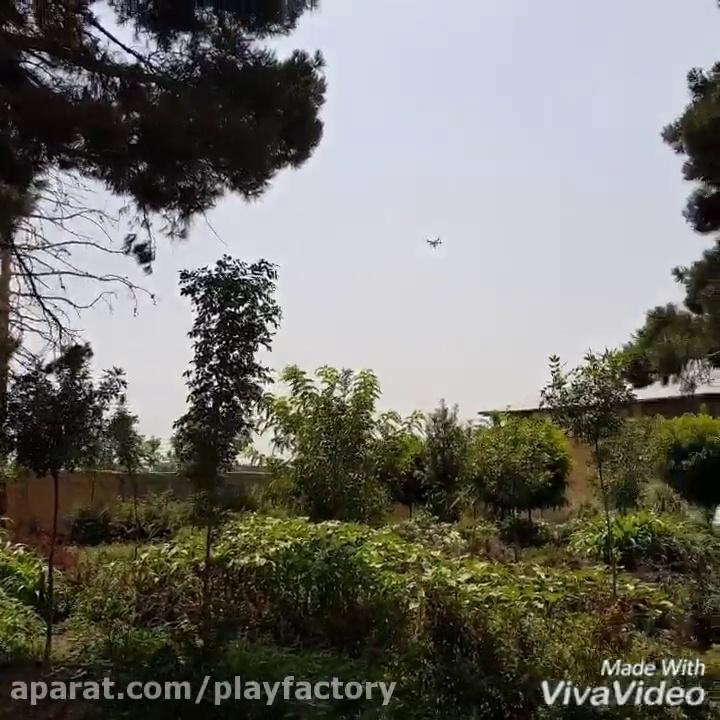drone: (418, 229, 451, 251)
